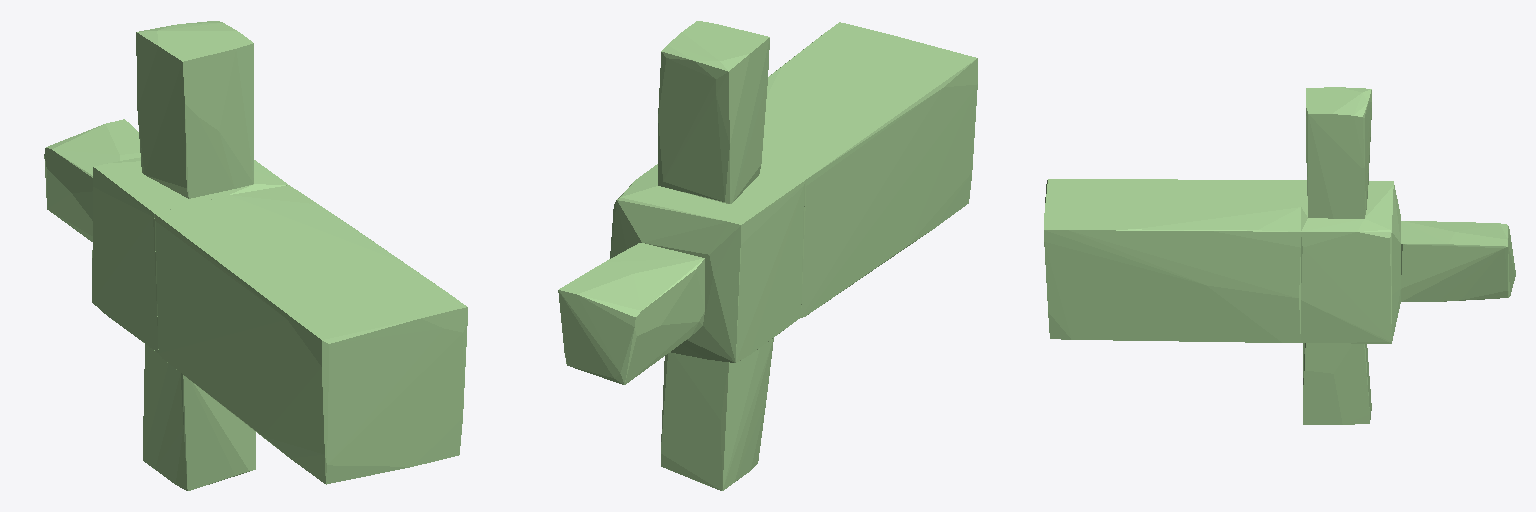
URDF robot description (blob975):
<robot name="blob975">
  <link name="random_obj_975">
    <contact>
      <lateral_friction value="1.0"/>
      <rolling_friction value="0.0"/>
      <inertia_scaling value="3.0"/>
      <contact_cfm value="0.0"/>
      <contact_erp value="1.0"/>
    </contact>
    <inertial>
      <origin rpy="0 0 0" xyz="0 0 0"/>
      <mass value="0.1"/>
      <inertia ixx="1" ixy="0" ixz="0" iyy="1" iyz="0" izz="0"/>
    </inertial>
    <visual>
      <origin rpy="0 0 0" xyz="0 0 0"/>
      <geometry>
        <mesh filename="975.obj" scale="0.015 0.015 0.015"/>
      </geometry>
      <material name="blockmat">
        <color rgba="0.72 0.88 0.65 1"/>
      </material>
    </visual>
    <collision>
      <origin rpy="0 0 0" xyz="0 0 0"/>
      <geometry>
        <mesh filename="975.obj" scale="0.015 0.015 0.015"/>
      </geometry>
    </collision>
  </link>
</robot>

--- Facts derived from the render (not from the file) ---
Views: 3 orthographic renders of the robot side by side, from view 1: azimuth 30°, elevation 25°; view 2: azimuth 150°, elevation 25°; view 3: azimuth 270°, elevation 25°.
Model blob975 with 1 links and 0 joints (none), rooted at random_obj_975, posed all joints at 0.
Links seen in each view (by area): view 1: random_obj_975; view 2: random_obj_975; view 3: random_obj_975.
Boxes of the visible links, box(x1,y1,x2,y2) form: random_obj_975: box(44, 21, 467, 490); random_obj_975: box(558, 21, 977, 490); random_obj_975: box(1044, 87, 1515, 424).
Size in the robot's own frame: 0.0328 by 0.1233 by 0.0923 metres.
1 mesh visuals loaded from 1 distinct referenced files (1 OBJ).